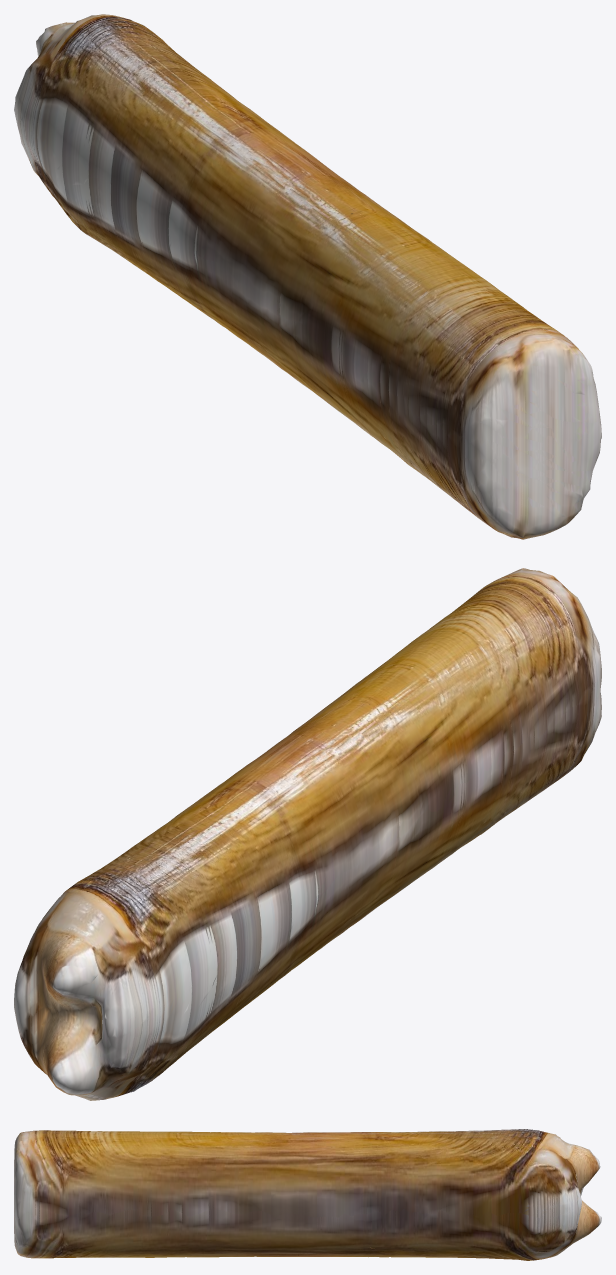
The model's file is fish_razor.glb.
3 renders of one model, top to bottom at view 1: azimuth 30°, elevation 25°; view 2: azimuth 150°, elevation 25°; view 3: azimuth 270°, elevation 25°, orthographic. The views are drawn at different scales.
Visible parts, largest first — view 1: orient; view 2: orient; view 3: orient.
Boxes of the visible parts, left/top/right/bottom form: orient: left=14, top=14, right=601, bottom=539; orient: left=14, top=568, right=601, bottom=1100; orient: left=14, top=1129, right=601, bottom=1260.
Size of the model in its own units: 0.3003 by 0.4593 by 1.95.
Materials: 1 (1 with a texture image).
